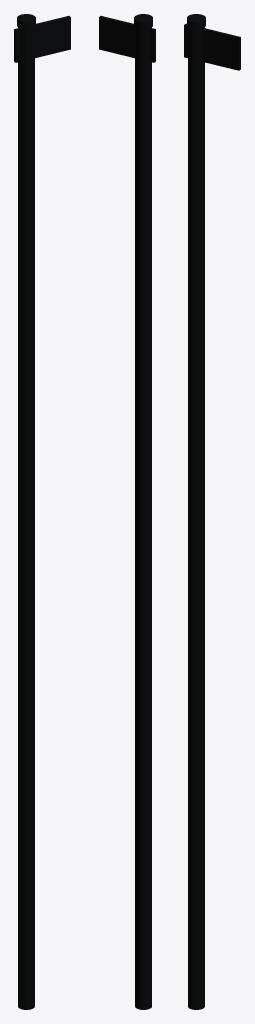
File: jernstang.glb
3 renders of one model, left to right at view 1: azimuth 30°, elevation 25°; view 2: azimuth 150°, elevation 25°; view 3: azimuth 330°, elevation 25°, orthographic.
Parts seen in each view (by area): view 1: Jernstang; view 2: Jernstang; view 3: Jernstang.
Part boxes in pixels (x1=…): Jernstang: x1=14, y1=14, x2=70, y2=1009; Jernstang: x1=99, y1=14, x2=155, y2=1009; Jernstang: x1=184, y1=14, x2=240, y2=1009.
Bounding box in the file's own units: 0.48 × 8.23 × 0.146.
Materials: 1 (1 with a texture image).
